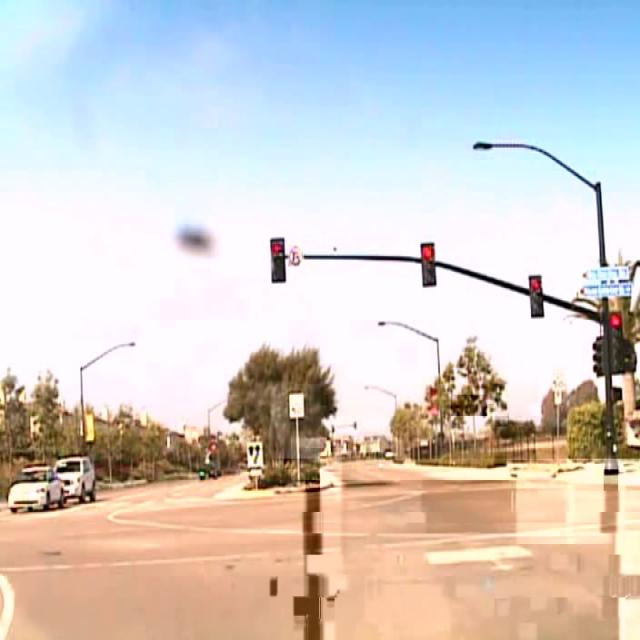speedLimit50: (288, 392, 304, 417)
